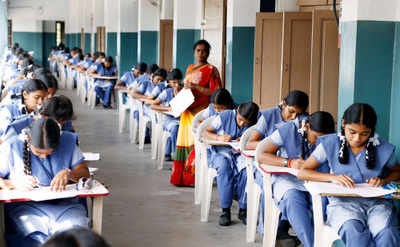invigilator: (173, 37, 216, 186)
student: (324, 97, 389, 218), (15, 118, 87, 191), (265, 85, 313, 160), (204, 97, 265, 153), (139, 65, 171, 108)
